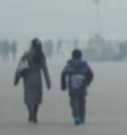person: (13, 37, 52, 125), (61, 48, 96, 125), (2, 38, 10, 60), (10, 39, 18, 60), (56, 39, 64, 55)
